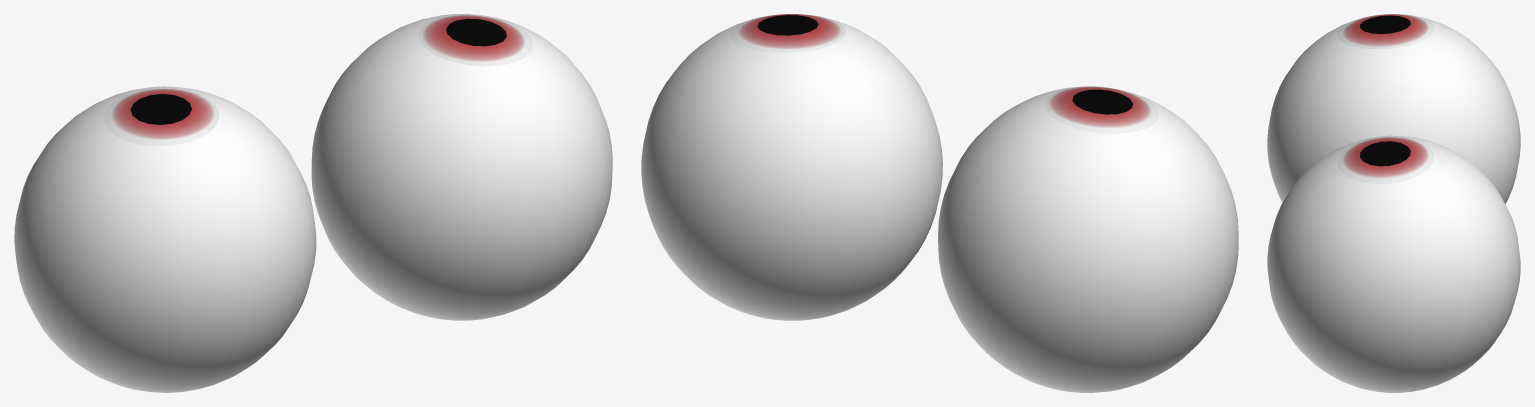
The model's file is lwjglcharactergoblindeadeye.obj.
3 renders of one model, left to right at view 1: azimuth 30°, elevation 25°; view 2: azimuth 150°, elevation 25°; view 3: azimuth 270°, elevation 25°, orthographic. The views are drawn at different scales.
Visible parts, largest first — view 1: Sphere; view 2: Sphere; view 3: Sphere.
Part boxes in pixels (x1,y1,x2,y2): Sphere: (14, 14, 612, 392); Sphere: (641, 14, 1238, 392); Sphere: (1267, 14, 1520, 392).
Size of the model in its own units: 0.6082 by 0.2908 by 0.285.
